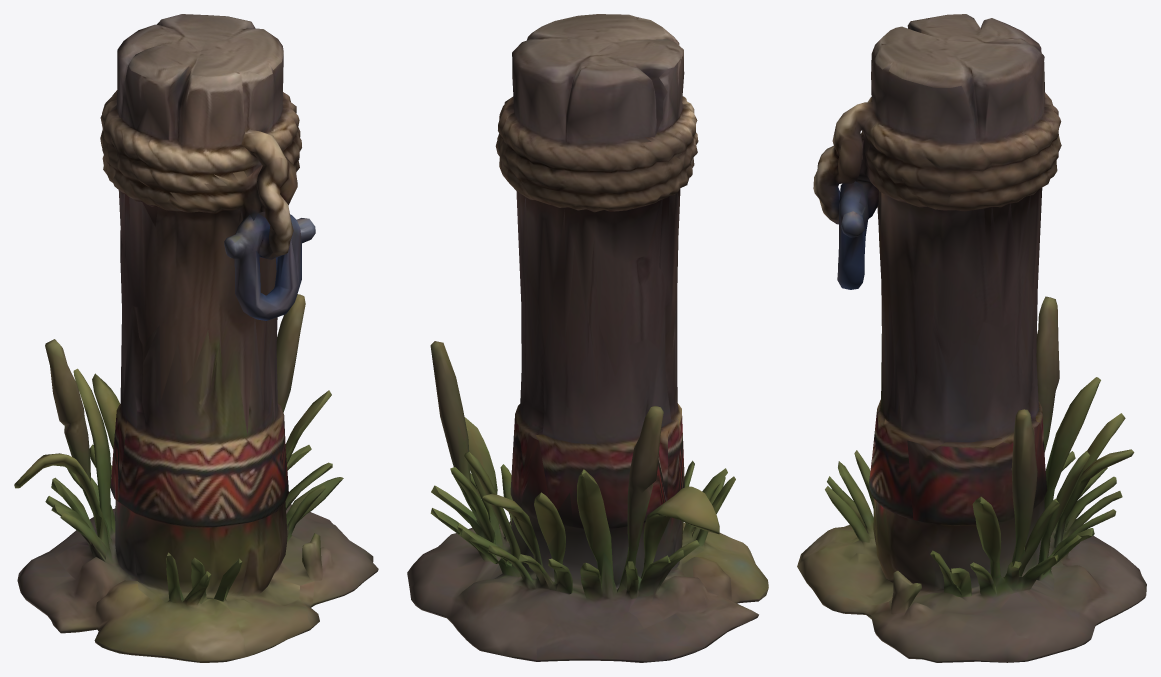
The model's file is e01_poste_amarracao.glb.
3 views of the same model, side by side, from view 1: azimuth 30°, elevation 25°; view 2: azimuth 150°, elevation 25°; view 3: azimuth 270°, elevation 25° (orthographic).
Parts seen in each view (by area): view 1: e01_poste_amarracao; view 2: e01_poste_amarracao; view 3: e01_poste_amarracao.
Part boxes in pixels (left/top/right/bottom): e01_poste_amarracao: left=14, top=14, right=378, bottom=662; e01_poste_amarracao: left=407, top=14, right=768, bottom=662; e01_poste_amarracao: left=797, top=14, right=1146, bottom=662.
Bounding box in the file's own units: 0.5792 × 0.956 × 0.5586.
1 material, 1 textured.
